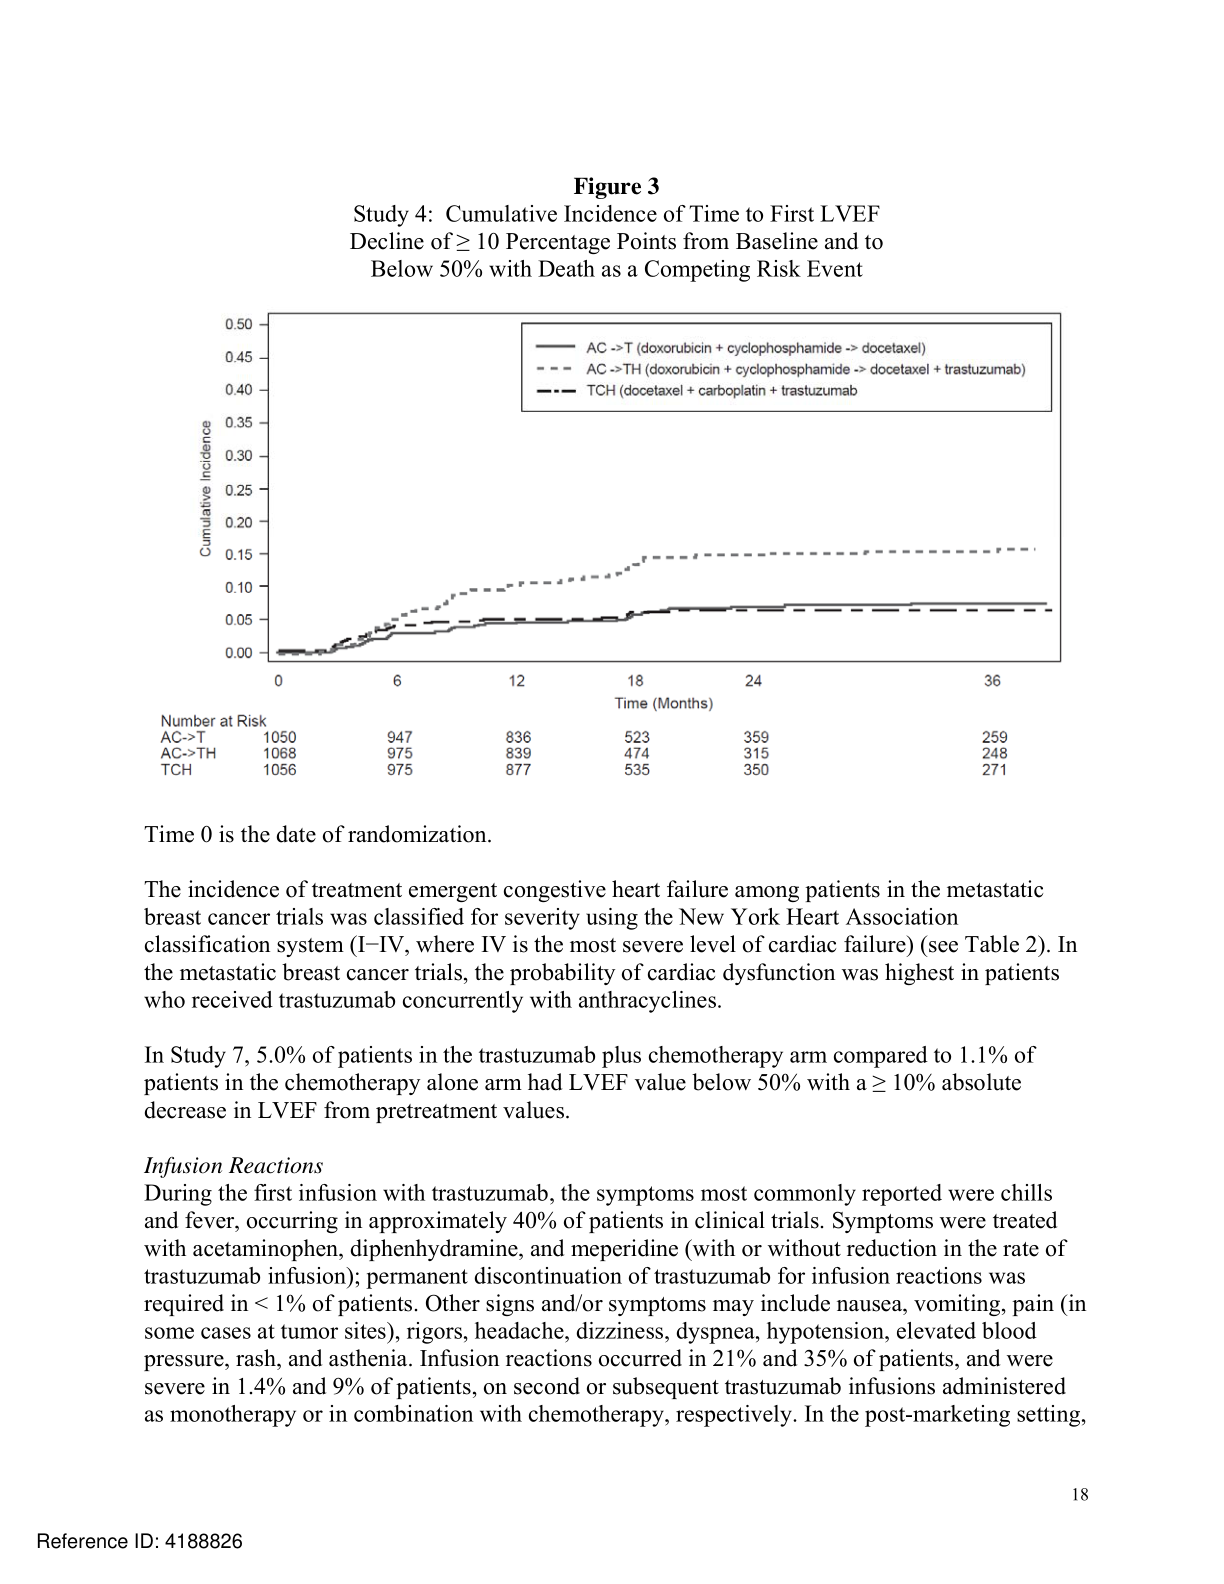nolines: (156, 728, 1013, 780)
